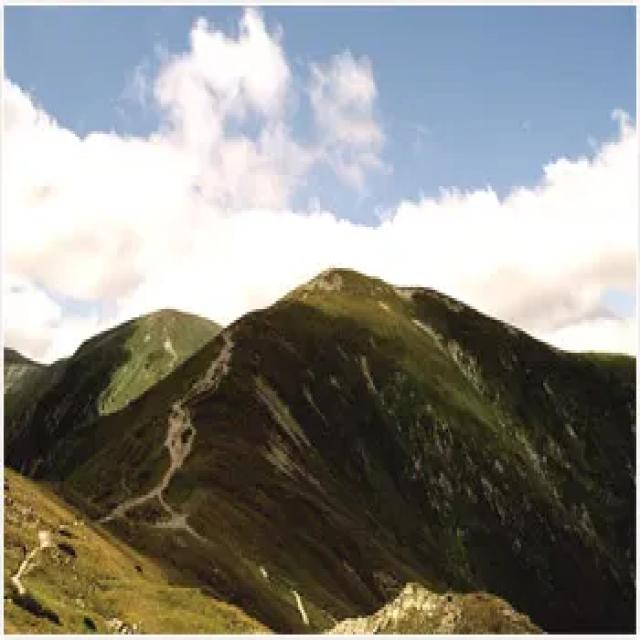Kopa Kondracka: (218, 164, 454, 373)
Malolaczniak: (101, 268, 233, 358)
